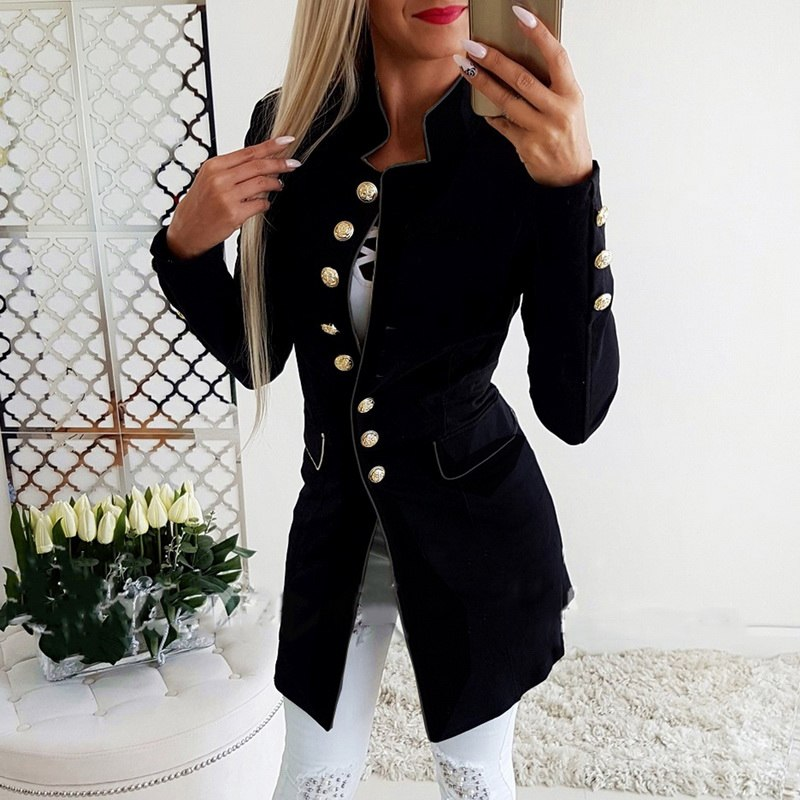F_W_suit jacket: (173, 78, 633, 736)
